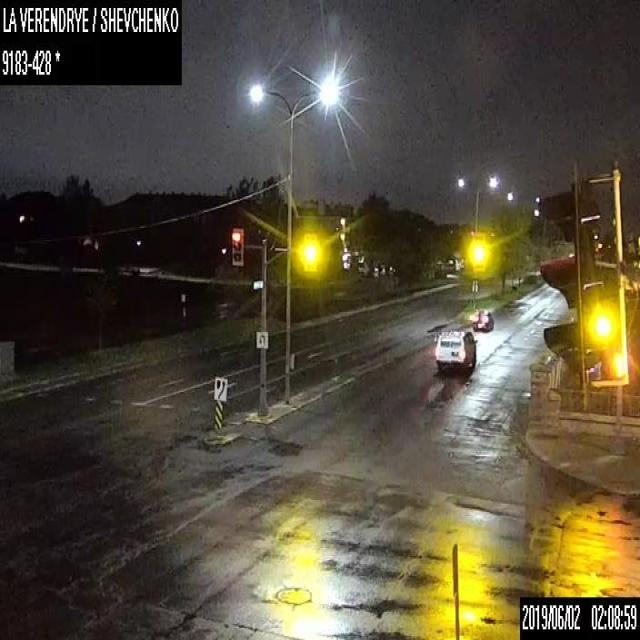vehicle: (434, 328, 476, 369), (472, 309, 493, 331)
